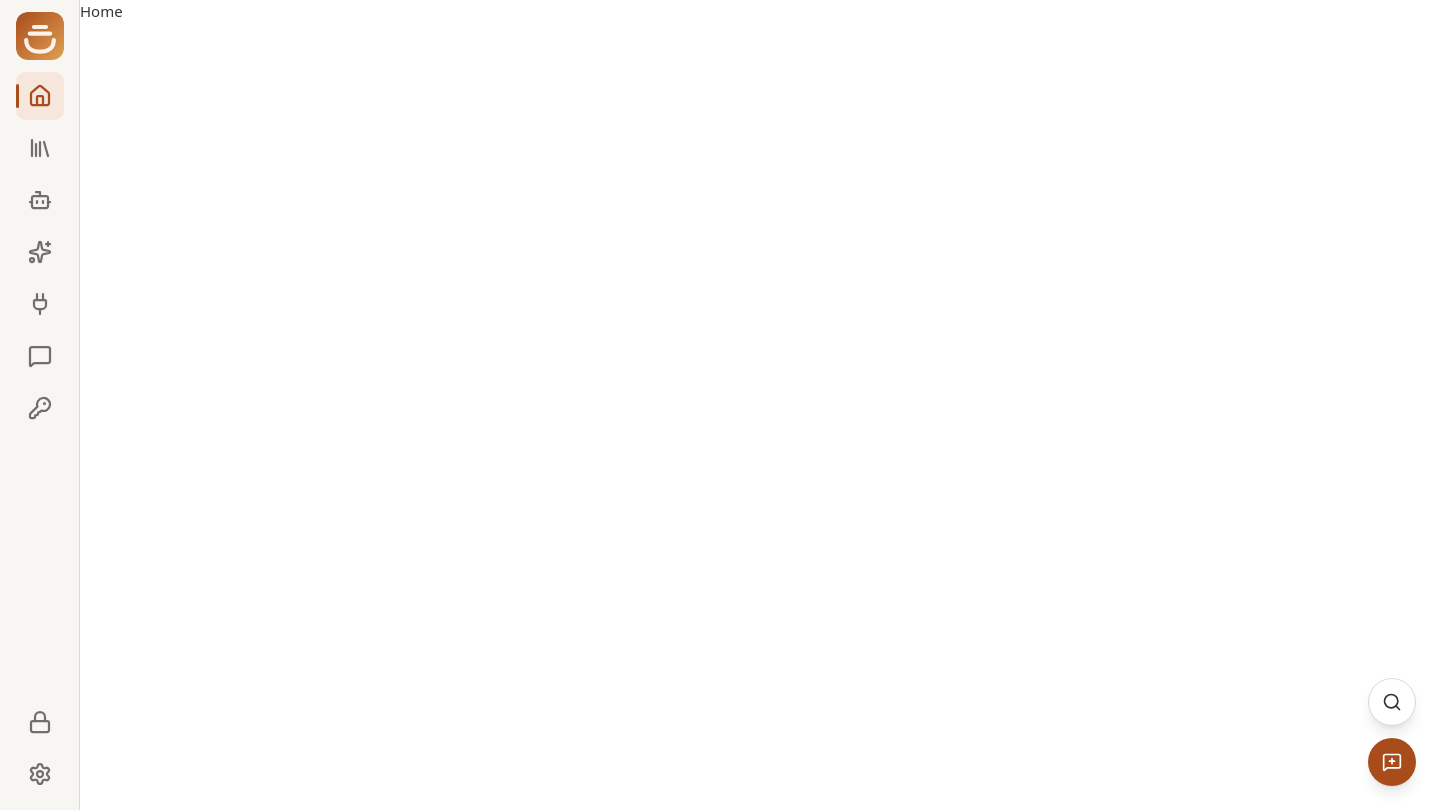
Test case: closing and reopening before an in-flight create resolves does not double-create
Click the button named "open chat" at (1392, 762), box [1368,738,1416,786]
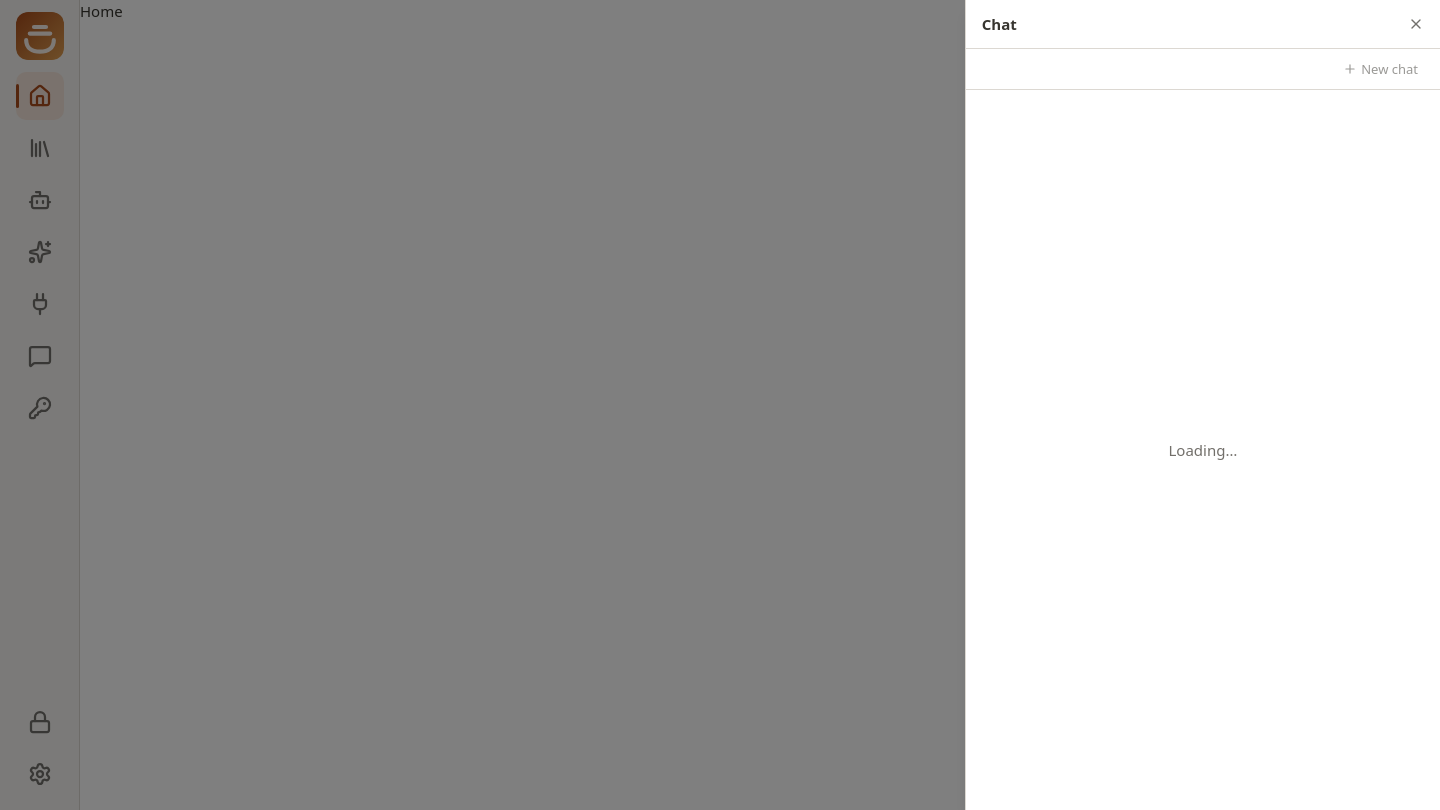
Click the button named "Close" at (1416, 24), box [1408,16,1424,32]
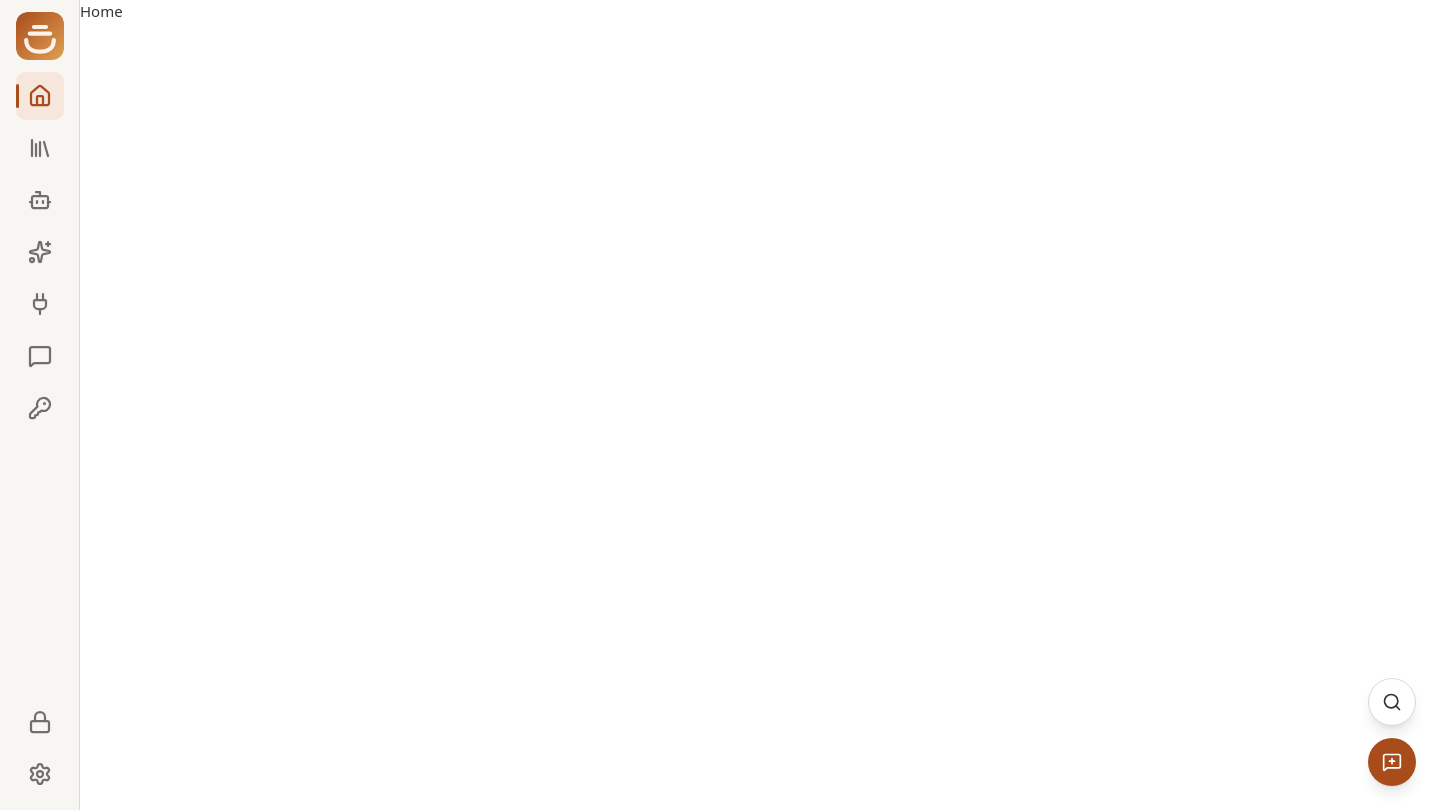
Click the button named "open chat" at (1392, 762), box [1368,738,1416,786]
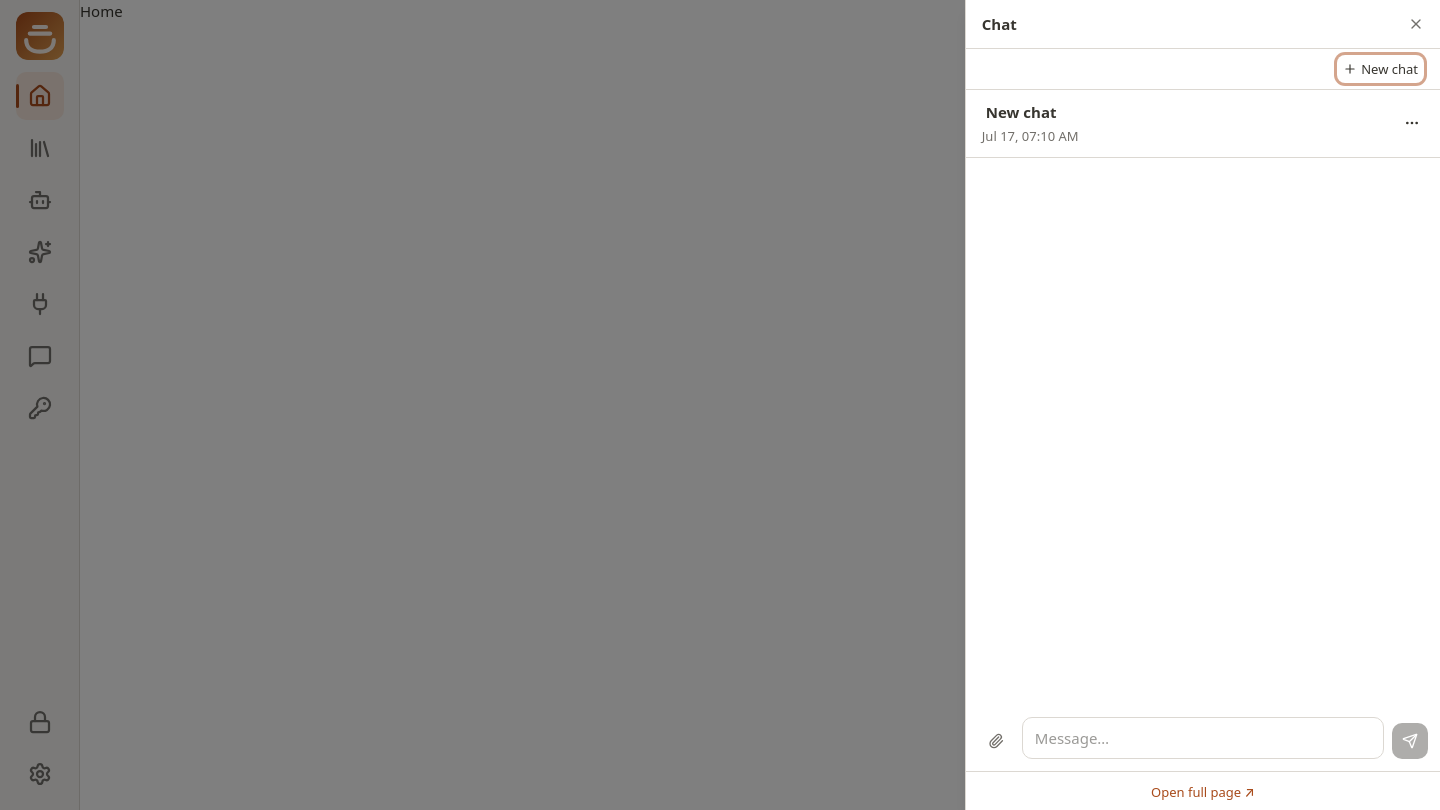
Result: the heading "New chat" is shown at [986,102,1056,122]
